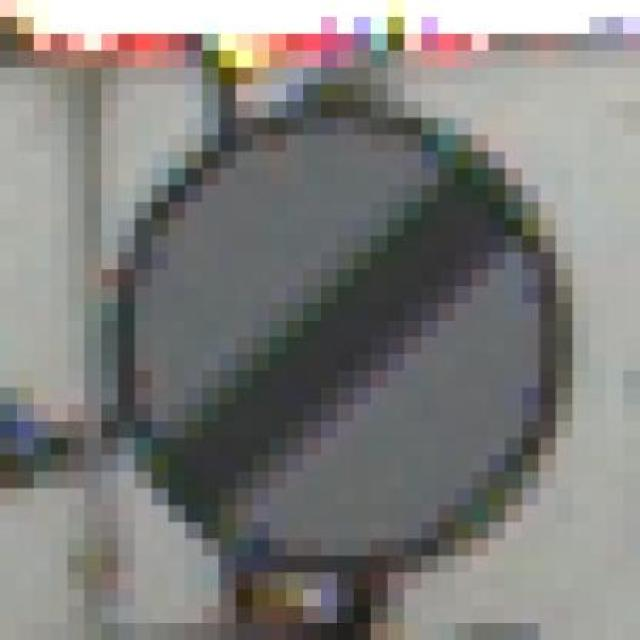End of all speed and passing limits: (67, 101, 590, 590)
